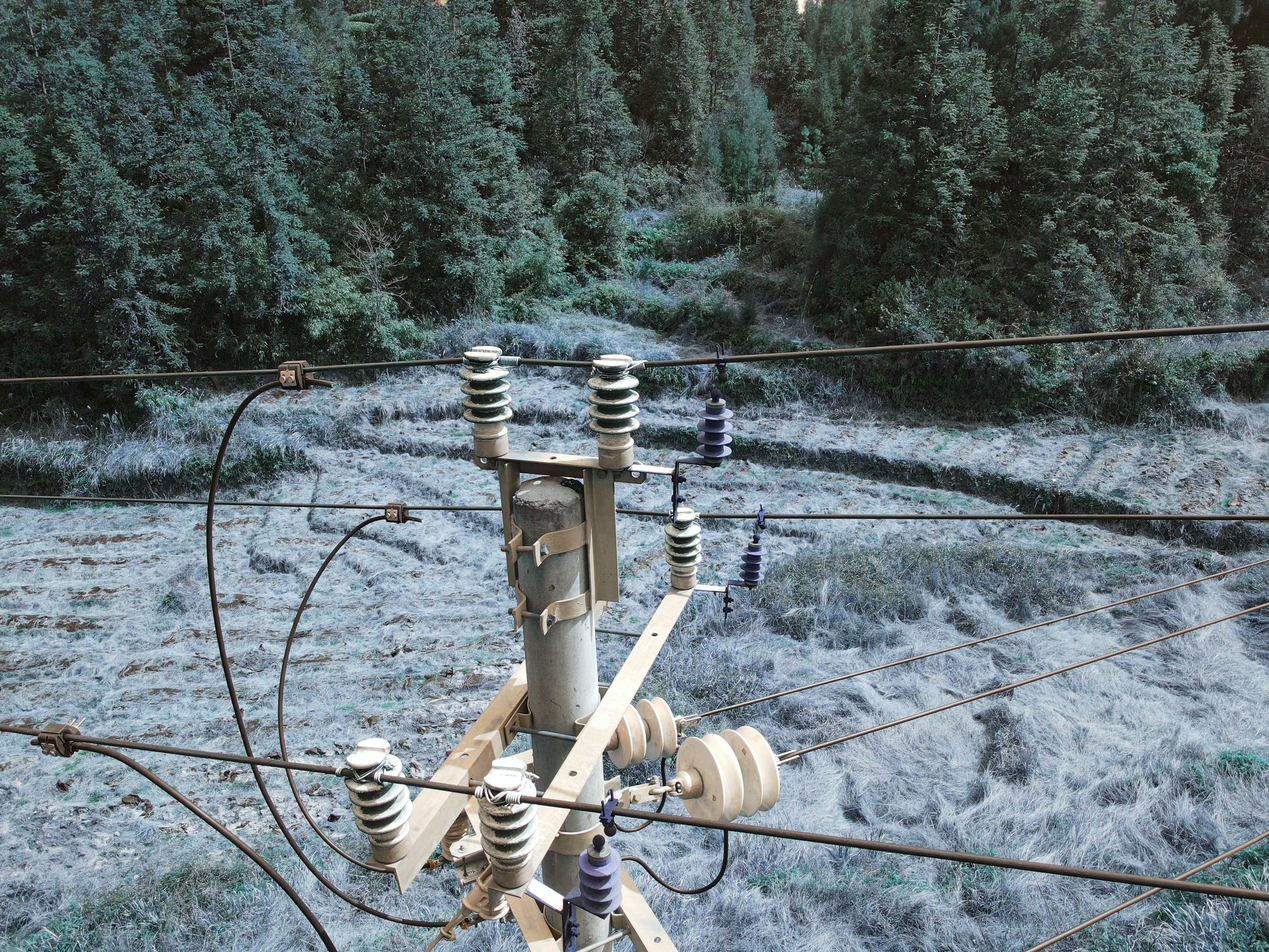severe_soiling_no_discharge_whole: (468, 753, 542, 886), (338, 736, 415, 861), (581, 352, 646, 467), (455, 342, 513, 459), (661, 505, 706, 586)
